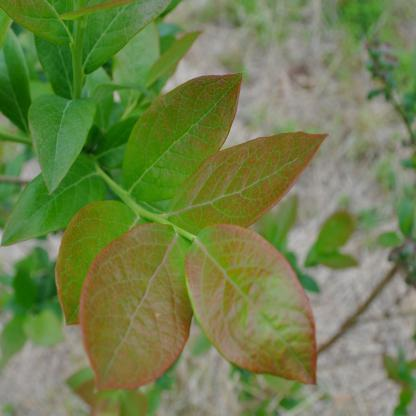Blueberry leaf: (184, 221, 344, 408), (76, 222, 199, 404), (118, 62, 249, 216), (170, 127, 336, 242), (39, 196, 144, 336)
